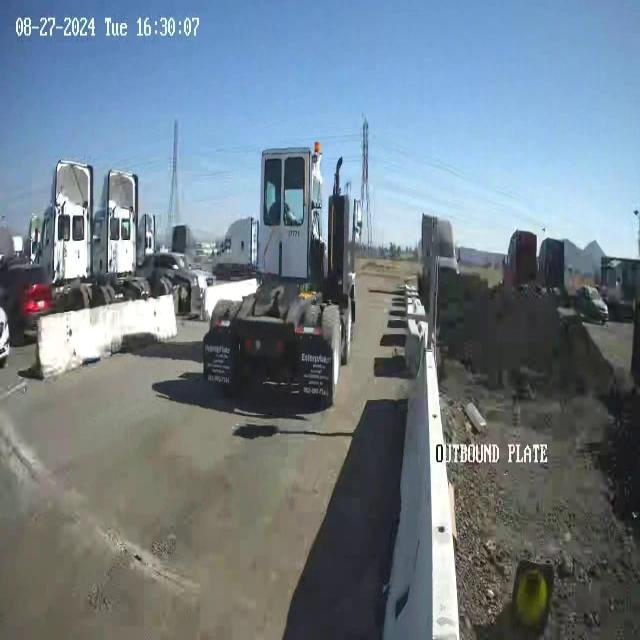BOBTAIL: (201, 143, 363, 413)
